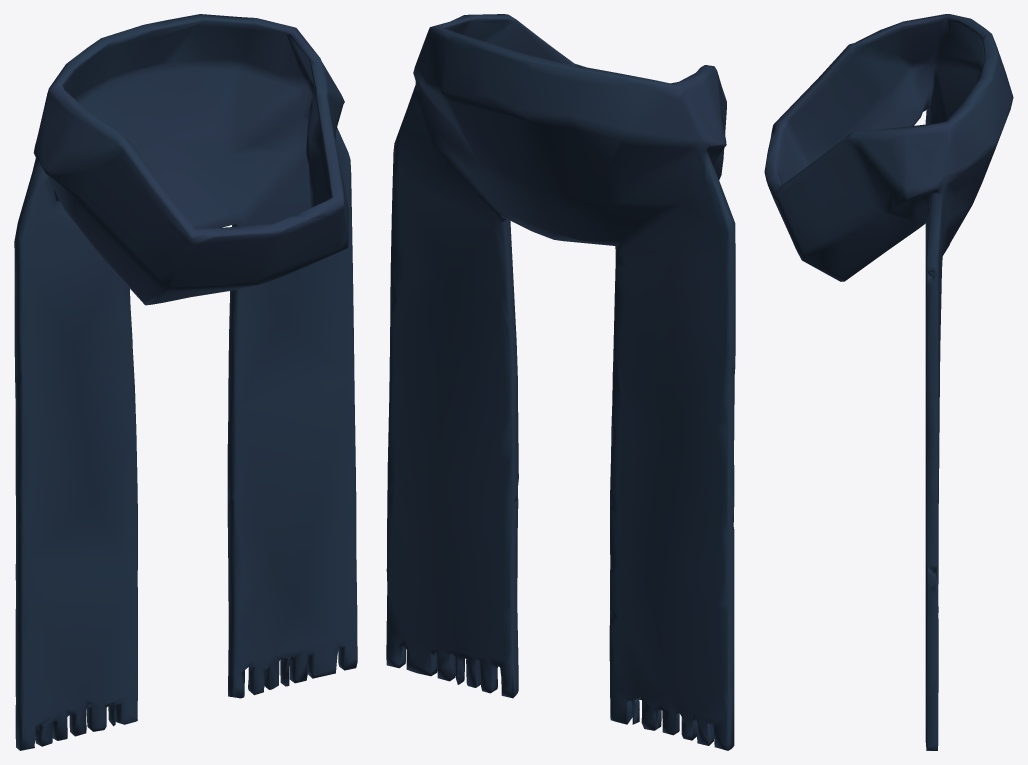
Rendered from gen3d-scarf-lod0.glb.
3 views of the same model, side by side, from view 1: azimuth 30°, elevation 25°; view 2: azimuth 150°, elevation 25°; view 3: azimuth 270°, elevation 25° (orthographic). The views are drawn at different scales.
Visible parts, largest first — view 1: part_0; view 2: part_0; view 3: part_0.
Boxes of the visible parts, x1,y1,x2,y2 form: part_0: [14, 14, 357, 750]; part_0: [386, 14, 735, 750]; part_0: [764, 14, 1013, 750].
Size of the model in its own units: 0.5347 by 0.9999 by 0.364.
